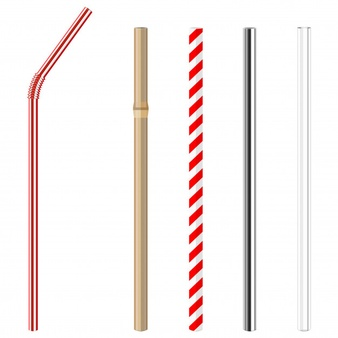Drinking Straw: (23, 5, 95, 332), (293, 24, 316, 334), (130, 25, 153, 333), (185, 24, 207, 333), (240, 24, 259, 334)
